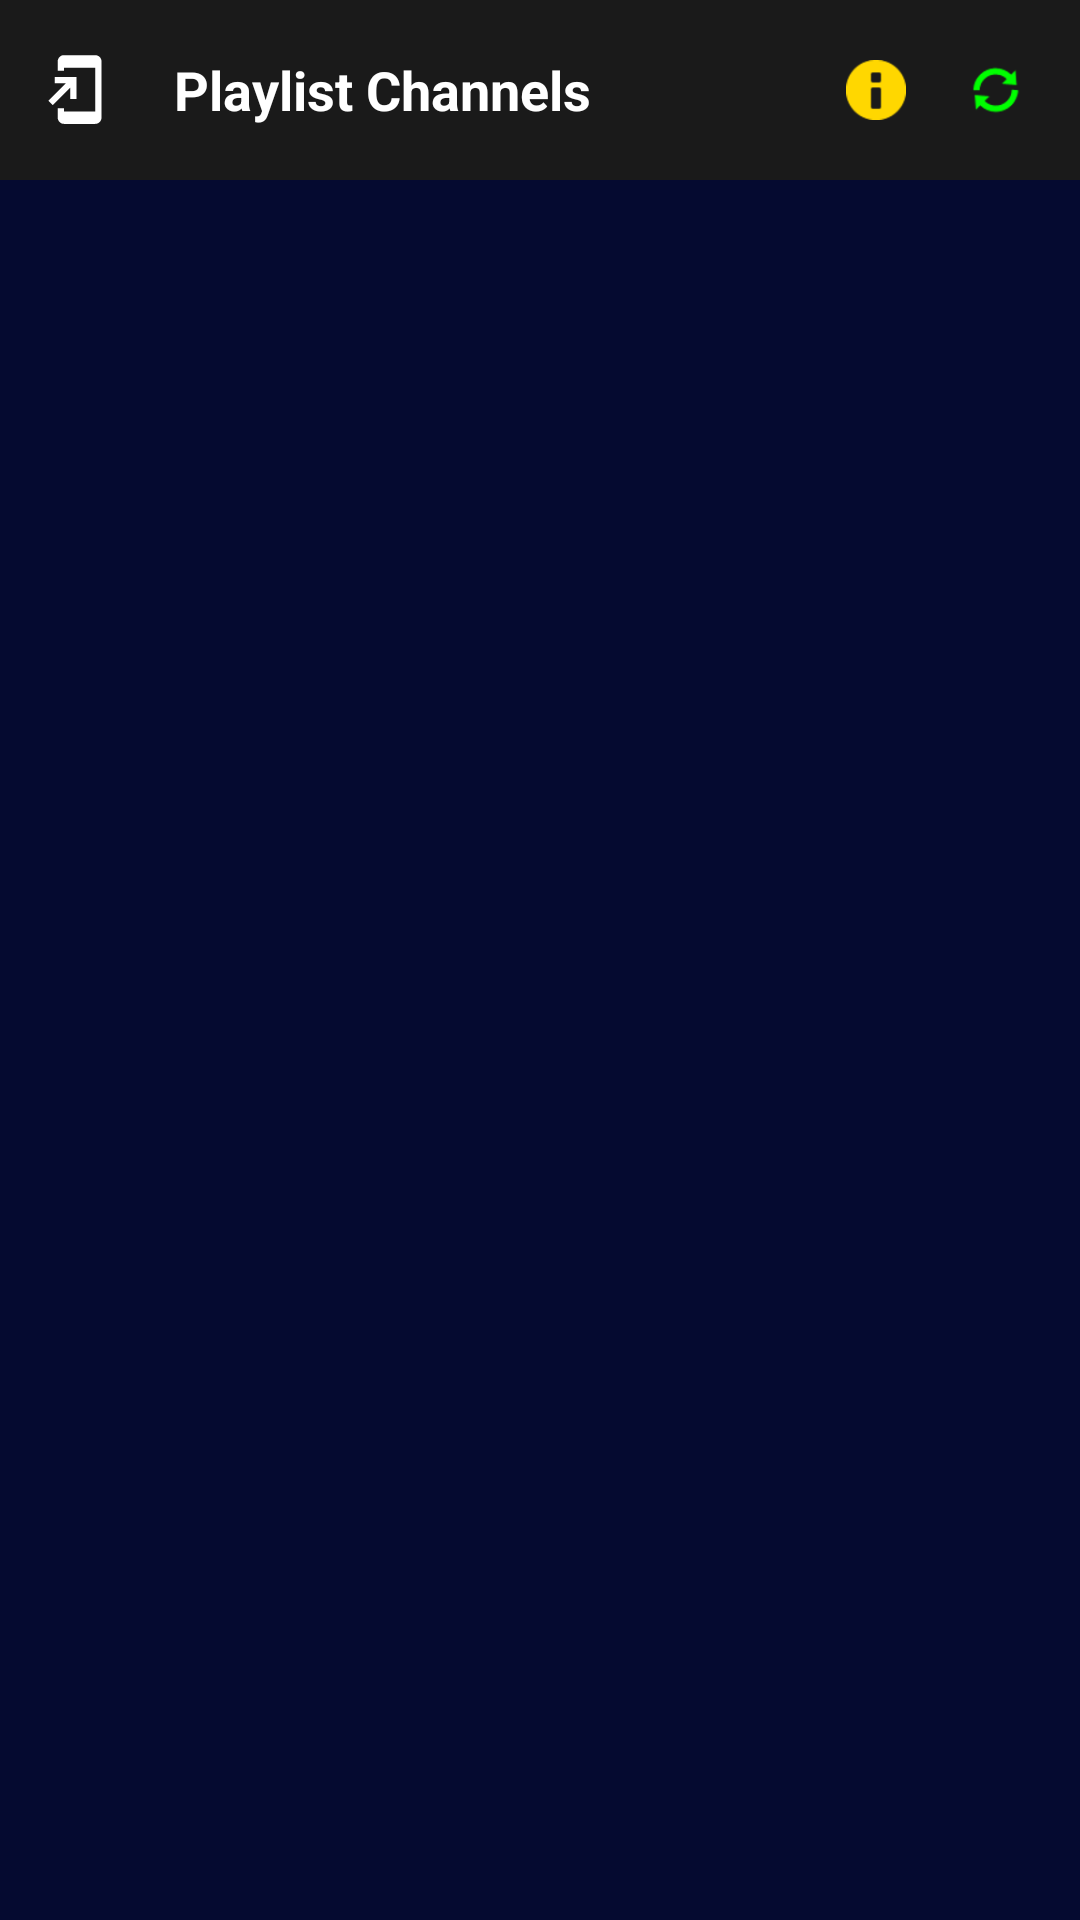

Icons on this 1080 × 1920 Android screen, each with the point to tap as (x=x, y=y):
info: (x=876, y=90)
popup sync: (x=996, y=90)
